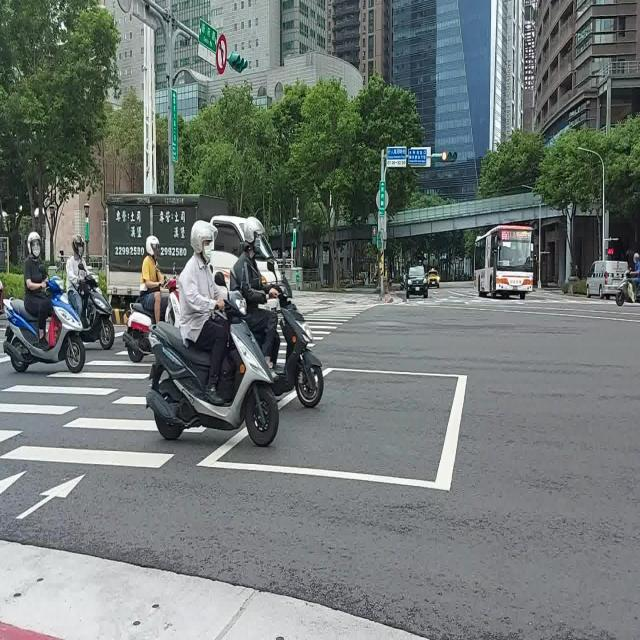bus: (474, 223, 534, 300)
car: (586, 259, 627, 300), (405, 263, 429, 299), (427, 267, 441, 290)
crosswalk: (0, 349, 151, 442), (0, 392, 177, 470), (303, 304, 374, 348), (299, 304, 328, 314)
motocycle: (141, 286, 283, 457), (0, 273, 90, 380), (270, 273, 328, 414), (120, 276, 180, 365), (82, 271, 117, 351)
trunk: (108, 193, 244, 308), (256, 236, 281, 284)
